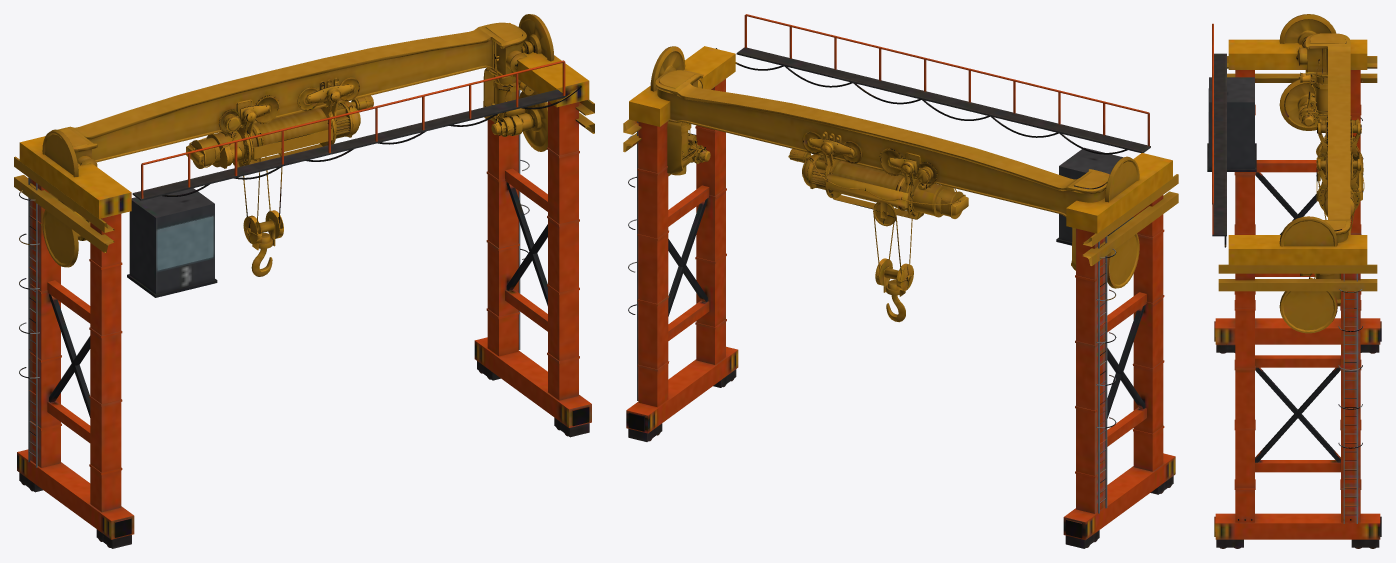
Rendered from gantry_crane.glb.
The picture shows the model from 3 angles, left to right: view 1: azimuth 30°, elevation 25°; view 2: azimuth 150°, elevation 25°; view 3: azimuth 270°, elevation 25°; orthographic projection. The views are drawn at different scales.
Visible parts, largest first — view 1: gantry_crane; view 2: gantry_crane; view 3: gantry_crane.
Part boxes in pixels (x1,y1,x2,y2): gantry_crane: [14, 14, 594, 548]; gantry_crane: [623, 14, 1178, 548]; gantry_crane: [1207, 14, 1381, 548].
Size of the model in its own units: 15.51 by 11.16 by 5.29.
Materials: 4 (4 with a texture image).
